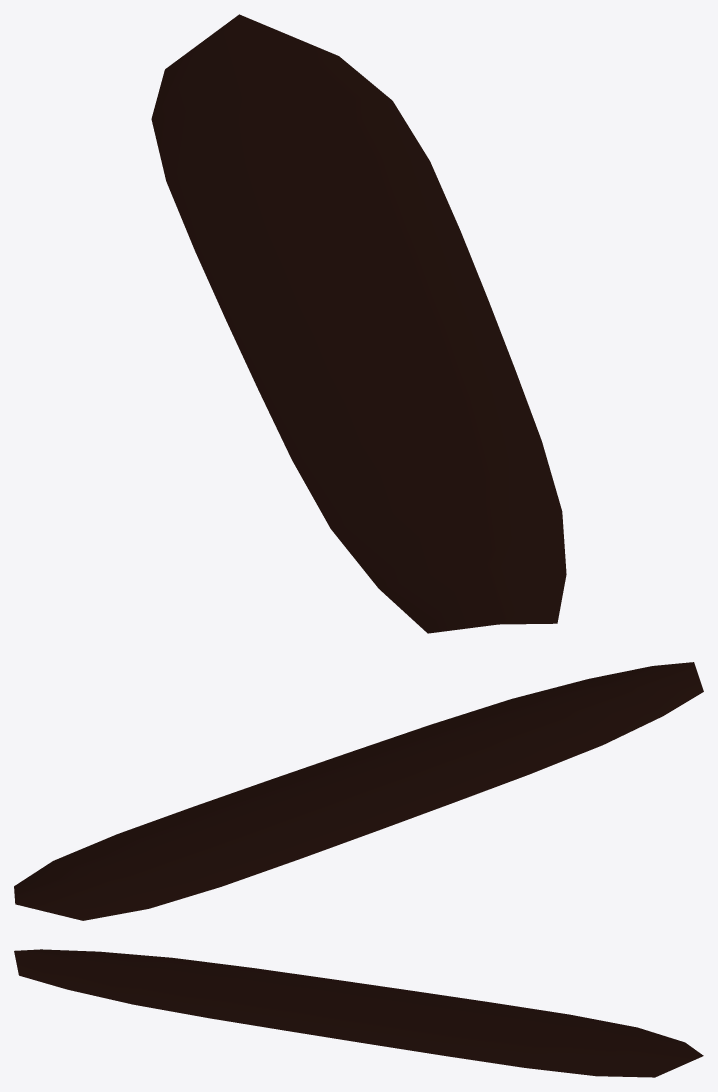
The model's file is finch_feather_tail_primary_003.obj.
The picture shows the model from 3 angles, top to bottom: view 1: azimuth 30°, elevation 25°; view 2: azimuth 150°, elevation 25°; view 3: azimuth 270°, elevation 25°; orthographic projection. The views are drawn at different scales.
Visible parts, largest first — view 1: feather_tail_primary_003; view 2: feather_tail_primary_003; view 3: feather_tail_primary_003.
Part boxes in pixels (x1,y1,x2,y2): feather_tail_primary_003: [151, 14, 566, 633]; feather_tail_primary_003: [14, 662, 703, 920]; feather_tail_primary_003: [14, 949, 703, 1077].
Size of the model in its own units: 0.022 by 0.000736 by 0.05.
